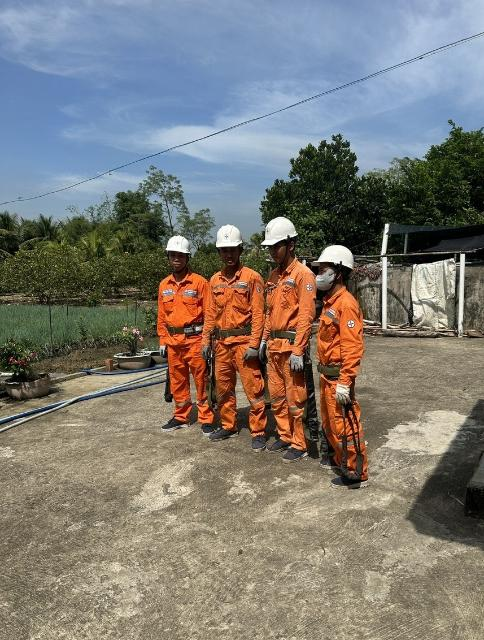gloves: (336, 382, 363, 410), (193, 343, 222, 365), (151, 341, 177, 362), (241, 342, 259, 365), (289, 351, 306, 373), (258, 341, 267, 367)
harness: (155, 316, 207, 337), (202, 323, 265, 340), (308, 360, 351, 383), (264, 329, 304, 340)
helmet: (255, 215, 312, 248), (310, 243, 359, 281), (212, 217, 250, 251), (158, 235, 198, 261)
shoes: (330, 472, 372, 495), (161, 404, 192, 434), (281, 440, 312, 467), (209, 424, 245, 445), (317, 455, 350, 470), (247, 430, 269, 452), (197, 417, 220, 437), (267, 433, 290, 448)
